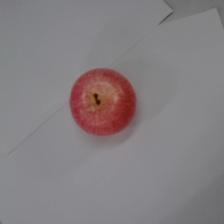red: (68, 66, 138, 137)
